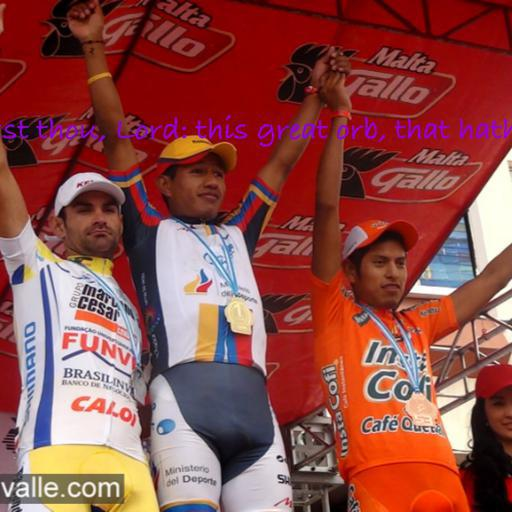Bradley Hand: (0, 115, 512, 149)
